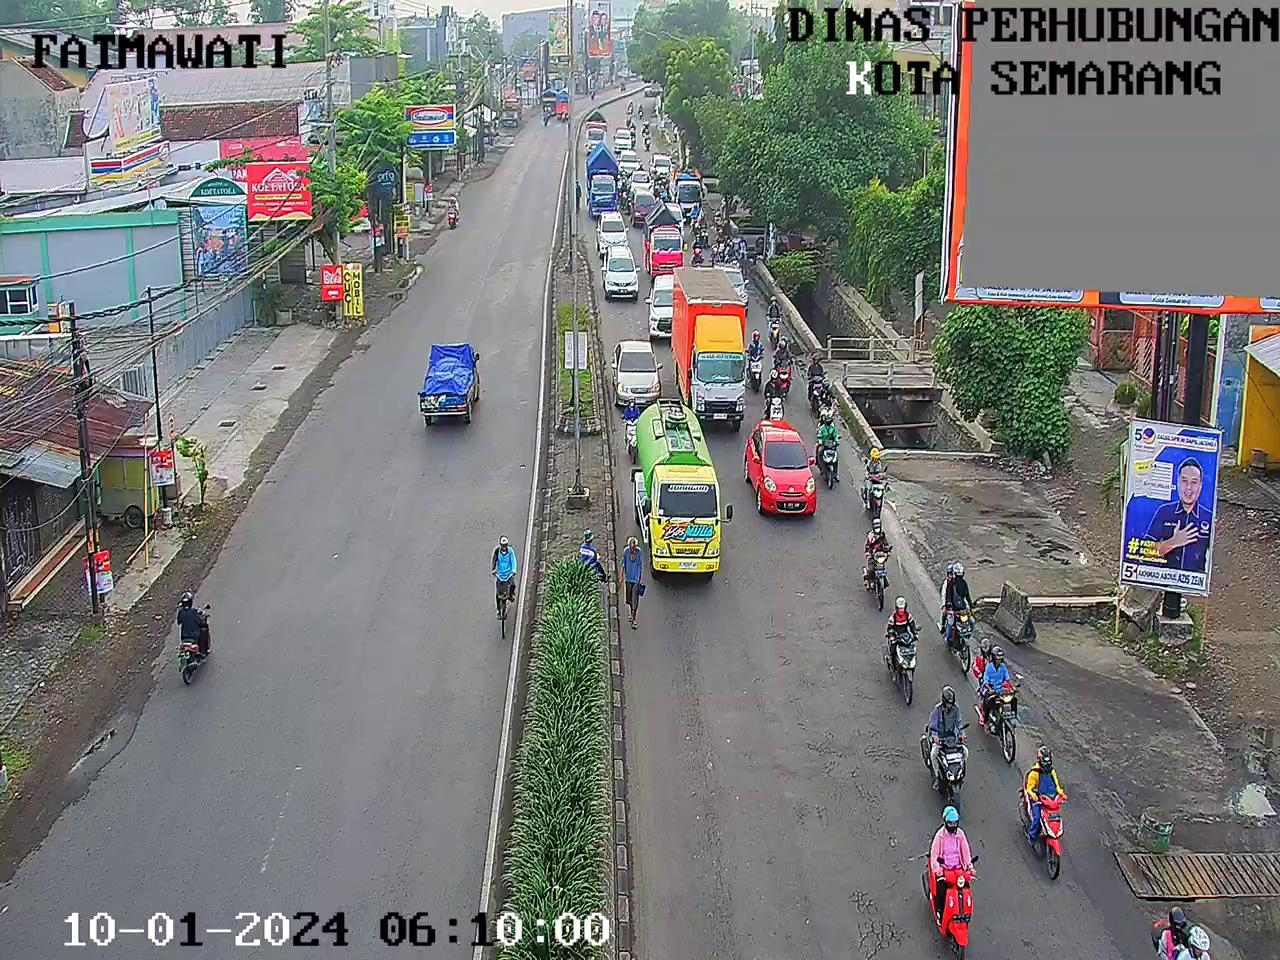car: (636, 401, 734, 581), (743, 418, 820, 516), (602, 343, 667, 411), (648, 271, 683, 345), (709, 253, 755, 307), (598, 244, 641, 299), (665, 165, 707, 211), (591, 211, 633, 254), (626, 182, 658, 222), (662, 195, 688, 222), (629, 168, 658, 192), (616, 151, 641, 176), (616, 124, 637, 152), (649, 152, 670, 176), (645, 86, 659, 97)
motorcycle: (913, 809, 981, 954), (977, 632, 1031, 753), (922, 690, 976, 808), (1023, 746, 1069, 877), (945, 565, 992, 667), (883, 590, 923, 695), (861, 450, 896, 558), (1156, 901, 1219, 960), (862, 518, 896, 607), (760, 371, 795, 439), (817, 407, 841, 487), (621, 396, 642, 469), (773, 339, 797, 391), (808, 354, 834, 403), (815, 376, 843, 421), (749, 332, 768, 387), (768, 295, 783, 350), (696, 217, 714, 247), (730, 253, 751, 277), (685, 209, 703, 236), (621, 190, 637, 216), (716, 226, 727, 259), (641, 125, 656, 149), (635, 101, 649, 121), (693, 243, 706, 263), (648, 168, 666, 182), (709, 243, 720, 263), (658, 178, 669, 198), (624, 103, 637, 115), (616, 171, 626, 186), (632, 128, 638, 144), (624, 116, 633, 124), (630, 124, 637, 128), (639, 164, 645, 168)
truck: (669, 262, 747, 426), (643, 201, 686, 278), (582, 144, 623, 219), (584, 112, 609, 155)
